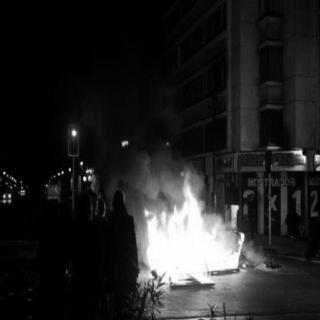Fire: (143, 168, 247, 288)
